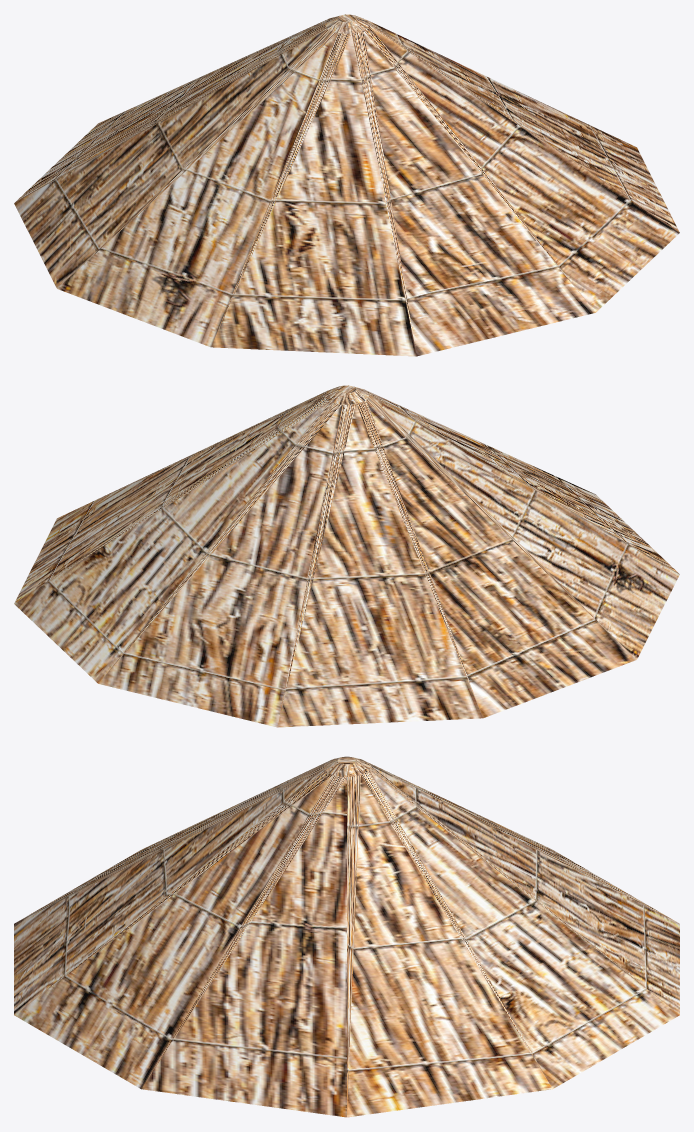
File: StrawHat2.fbx
3 views of the same model, one above another, from view 1: azimuth 30°, elevation 25°; view 2: azimuth 150°, elevation 25°; view 3: azimuth 270°, elevation 25° (orthographic). The views are drawn at different scales.
Parts seen in each view (by area): view 1: Cylinder002; view 2: Cylinder002; view 3: Cylinder002.
Boxes of the visible parts, x1,y1,x2,y2 form: Cylinder002: [14, 14, 679, 356]; Cylinder002: [14, 385, 679, 727]; Cylinder002: [14, 756, 679, 1117].
Bounding box in the file's own units: 7.6 × 2.5 × 7.23.
